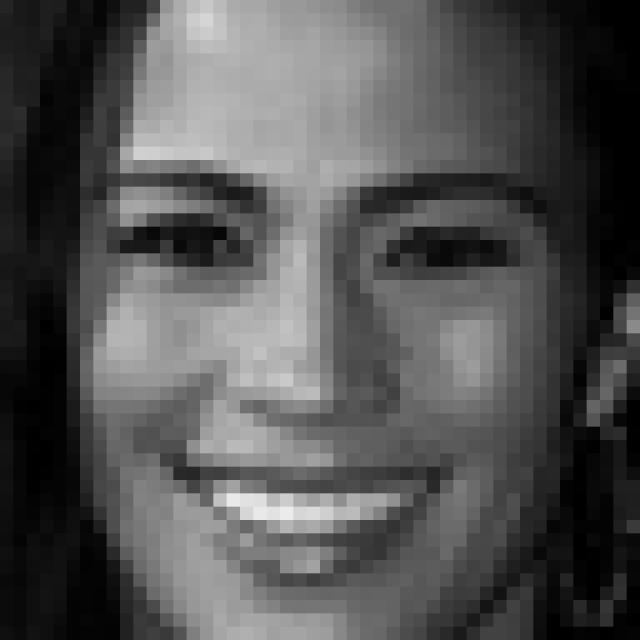happy: (99, 158, 558, 597)
